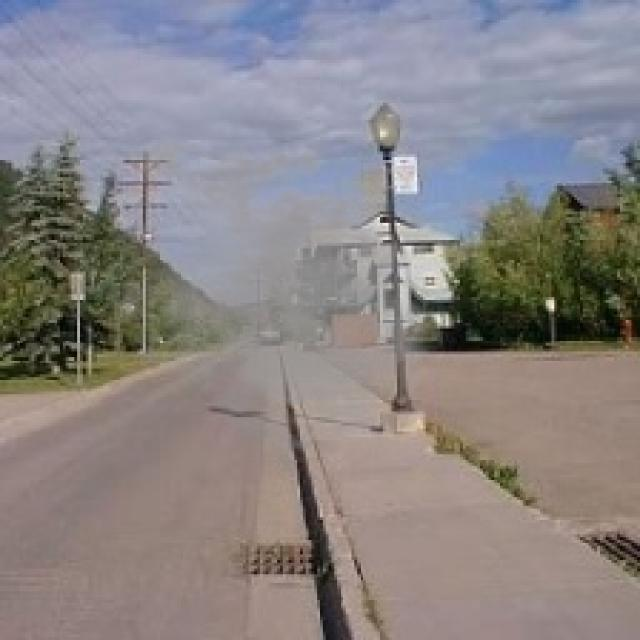Smoke: (77, 128, 457, 474)
